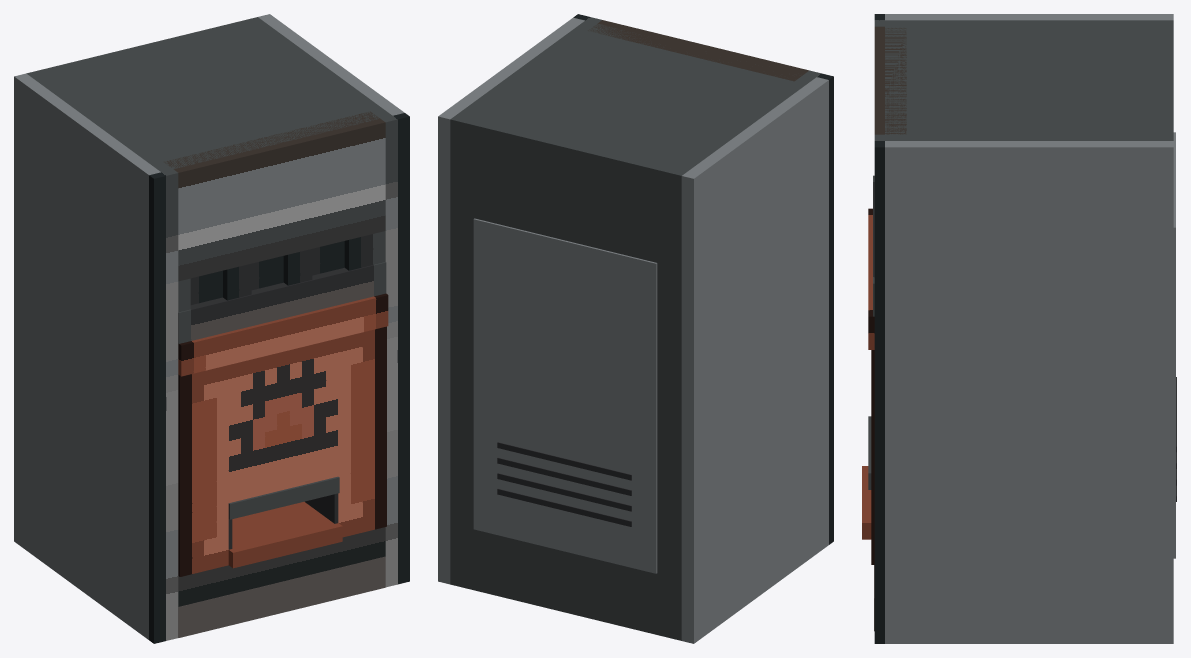
The model's file is CMU3DColaVendor.glb.
The picture shows the model from 3 angles, left to right: view 1: azimuth 30°, elevation 25°; view 2: azimuth 150°, elevation 25°; view 3: azimuth 270°, elevation 25°; orthographic projection. The views are drawn at different scales.
Visible parts, largest first — view 1: left cabinet side, original orange brand artwork, cabinet roof, header metal sign, left silver face rail, right silver face rail, selection lower lip, upper orange door rail, plinth face, bottom black band, pickup tray lip, pickup left door panel (+11 smaller); view 2: left cabinet side, rear service panel, rear cabinet wall, cabinet roof, right cabinet side, header metal sign, left silver face rail, rear cooling slot 1, rear cooling slot 3, rear cooling slot 2, rear cooling slot 4; view 3: right cabinet side, cabinet roof, right silver face rail, header metal sign, rear cabinet wall, left cabinet side, rear service panel, upper orange door rail, pickup tray lip, original orange brand artwork.
Boxes of the visible parts, <box> form: left cabinet side: <box>14,73,160,639</box>; original orange brand artwork: <box>178,326,386,514</box>; cabinet roof: <box>34,23,392,172</box>; header metal sign: <box>164,111,385,281</box>; left silver face rail: <box>149,169,178,643</box>; right silver face rail: <box>381,113,409,587</box>; selection lower lip: <box>178,262,386,343</box>; upper orange door rail: <box>178,293,388,376</box>; plinth face: <box>178,556,385,637</box>; bottom black band: <box>178,527,385,606</box>; pickup tray lip: <box>228,501,342,568</box>; pickup left door panel: <box>178,503,228,576</box>; left cabinet side: <box>681,77,828,643</box>; rear service panel: <box>473,218,657,573</box>; rear cabinet wall: <box>450,113,689,640</box>; cabinet roof: <box>458,20,816,169</box>; right cabinet side: <box>438,17,584,584</box>; header metal sign: <box>588,20,809,81</box>; left silver face rail: <box>805,70,833,544</box>; rear cooling slot 1: <box>497,442,631,480</box>; rear cooling slot 3: <box>497,473,631,511</box>; rear cooling slot 2: <box>497,458,631,495</box>; rear cooling slot 4: <box>497,489,631,526</box>; right cabinet side: <box>885,141,1173,643</box>; cabinet roof: <box>885,20,1156,140</box>; right silver face rail: <box>874,134,884,643</box>; header metal sign: <box>874,26,906,134</box>; rear cabinet wall: <box>1156,20,1173,140</box>; left cabinet side: <box>885,14,1173,20</box>; rear service panel: <box>1173,132,1175,558</box>; upper orange door rail: <box>868,208,874,349</box>; pickup tray lip: <box>862,466,871,539</box>; original orange brand artwork: <box>871,350,874,498</box>.
Size of the model in its own units: 0.6562 by 1.14 by 0.655.
Materials: 19 (16 with a texture image).
